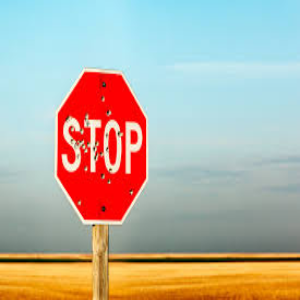STOP_SIGN: (55, 67, 148, 225)
